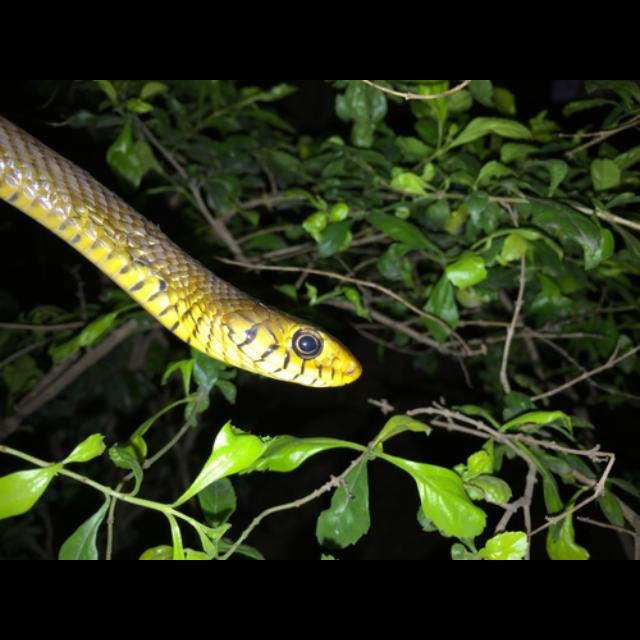snake: (0, 108, 378, 402)
